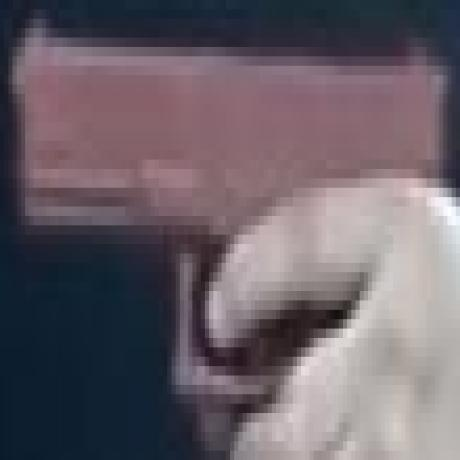weapon: (16, 22, 450, 400)
